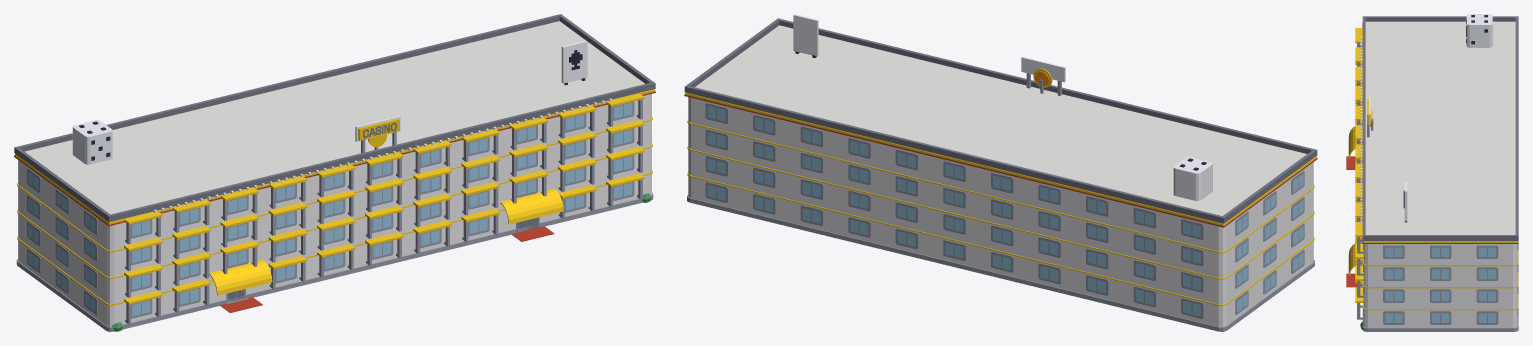
File: casino-6x2-t3-tone-a.glb
The picture shows the model from 3 angles, left to right: view 1: azimuth 30°, elevation 25°; view 2: azimuth 150°, elevation 25°; view 3: azimuth 270°, elevation 25°; orthographic projection. The views are drawn at different scales.
Parts seen in each view (by area): view 1: casino-6x2-t3-tone-a; view 2: casino-6x2-t3-tone-a; view 3: casino-6x2-t3-tone-a.
Part boxes in pixels (left/top/right/bottom): casino-6x2-t3-tone-a: left=14, top=14, right=655, bottom=331; casino-6x2-t3-tone-a: left=684, top=14, right=1317, bottom=331; casino-6x2-t3-tone-a: left=1346, top=14, right=1518, bottom=331.
Bounding box in the file's own units: 6 × 1.57 × 1.99.
1 material, 1 textured.
